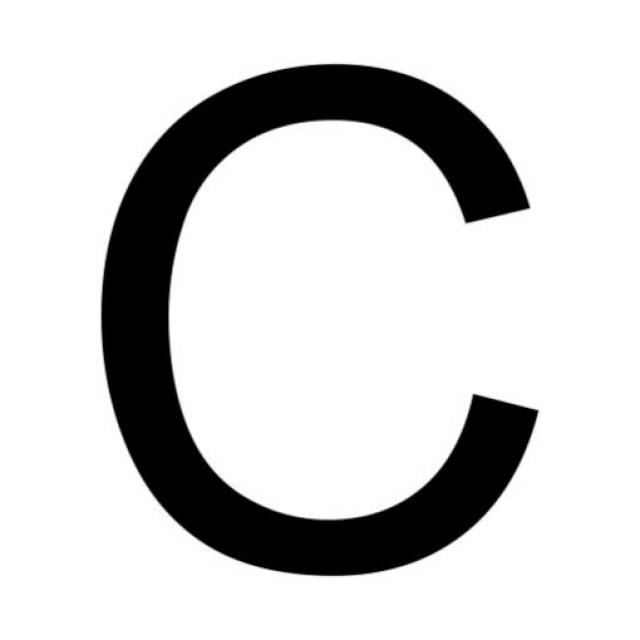C: (66, 29, 572, 612)
